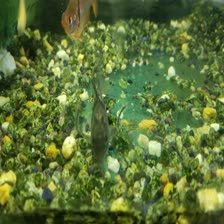Kiros: (73, 67, 134, 170)
Transparente: (57, 0, 98, 43)
